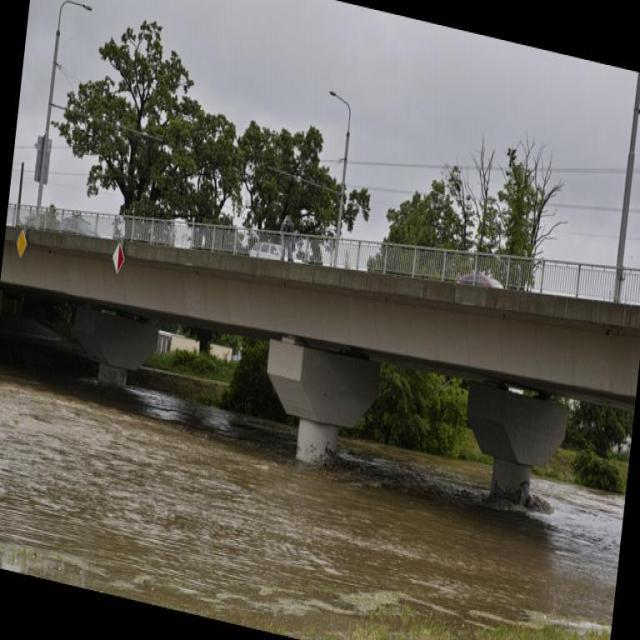flood: (0, 301, 631, 639)
